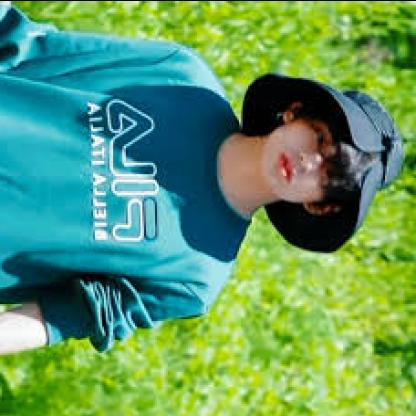hat: (241, 74, 407, 258)
